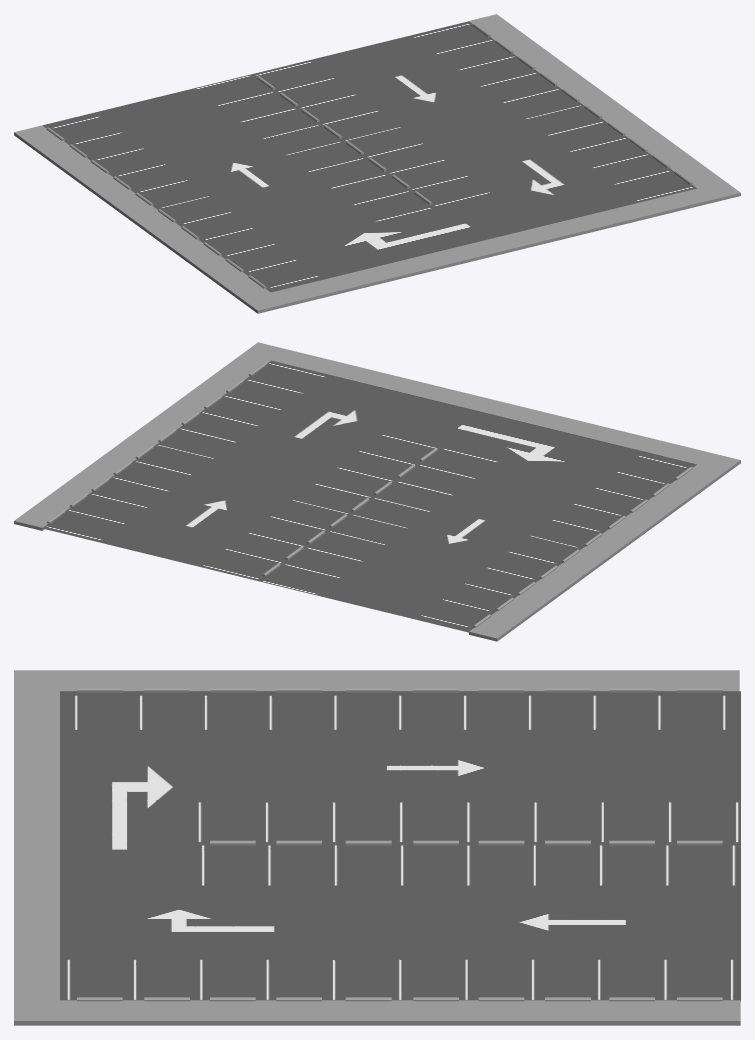
File: CarPark.fbx
The picture shows the model from 3 angles, top to bottom: view 1: azimuth 30°, elevation 25°; view 2: azimuth 150°, elevation 25°; view 3: azimuth 270°, elevation 25°; orthographic projection. The views are drawn at different scales.
Parts seen in each view (by area): view 1: pPlane1, pCube29; view 2: pPlane1, pCube29; view 3: pPlane1, pCube29.
Boxes of the visible parts, left/top/right/bottom form: pPlane1: left=43, top=21, right=696, bottom=292; pCube29: left=14, top=14, right=740, bottom=313; pPlane1: left=42, top=361, right=696, bottom=632; pCube29: left=14, top=342, right=740, bottom=641; pPlane1: left=60, top=691, right=740, bottom=1001; pCube29: left=14, top=670, right=740, bottom=1025.
Bounding box in the file's own units: 24.35 × 0.2357 × 21.34.
Materials: 5 (4 with a texture image).
